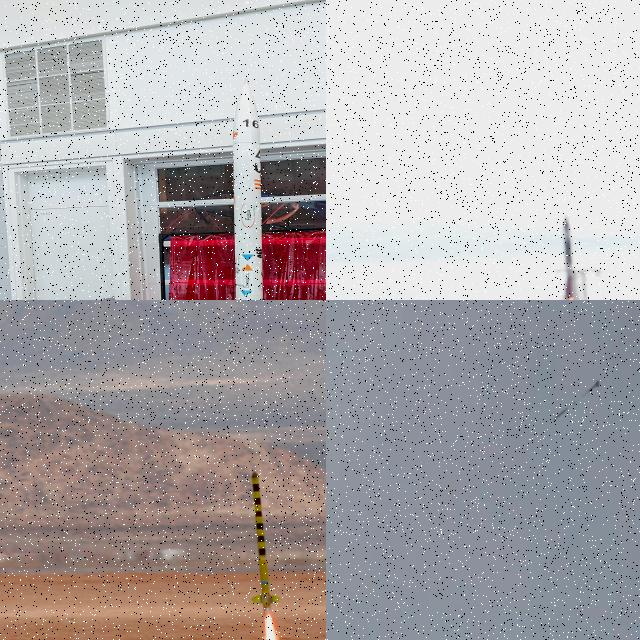Rocket: (233, 79, 263, 300), (249, 470, 280, 612), (554, 380, 600, 422), (562, 215, 575, 298)
